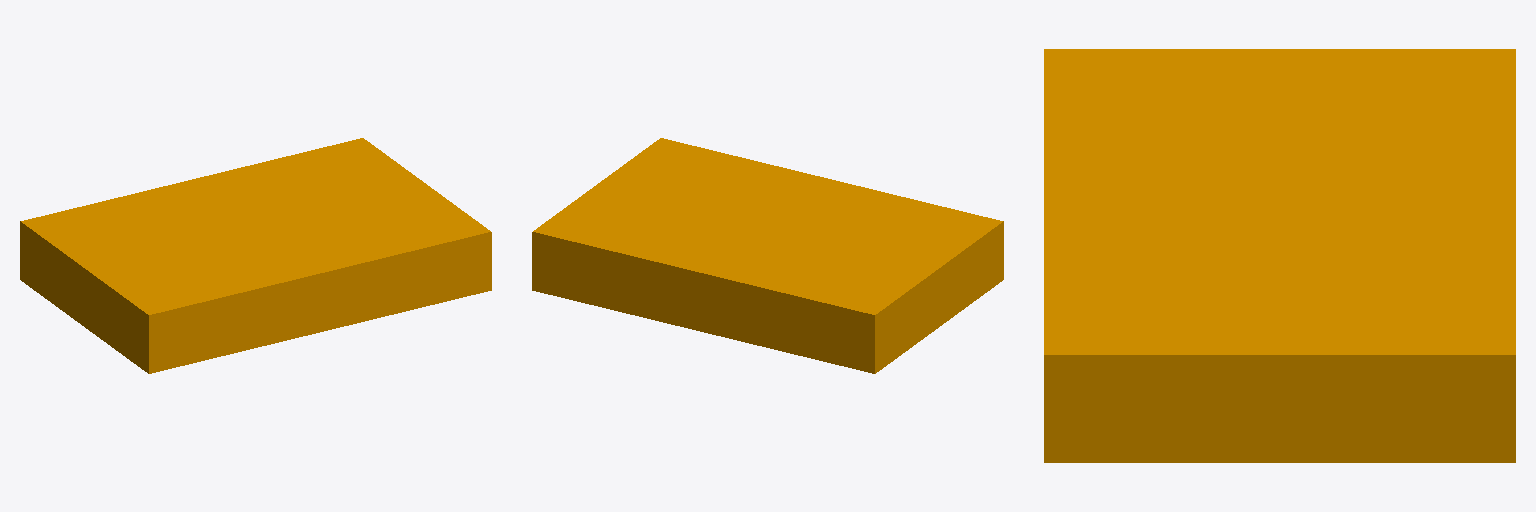
robot.urdf — book:
<?xml version="1.0"?>
<robot name="book">
  <link name="book">
    <visual>
      <origin xyz="0.0 0.0 0.0"/>
      <geometry>
        <mesh filename="book.obj" scale="1.0 1.0 1.0"/>
      </geometry>
    </visual>
    <collision>
      <origin xyz="0.0 0.0 0.0"/>
      <geometry>
        <mesh filename="book.obj" scale="1.0 1.0 1.0"/>
      </geometry>
    </collision>
    <inertial>
      <!-- Mass value from the *empty* spam can. Full spam can is 368g -->
      <mass value="0.2"/> 
      <inertia ixx="0.1" ixy="0.0" ixz="0.0" iyy="0.1" iyz="0.0" izz="0.1"/>
    </inertial>
  </link>
</robot>

--- Render facts (derived) ---
3 views of the same robot in one strip: view 1: azimuth 30°, elevation 25°; view 2: azimuth 150°, elevation 25°; view 3: azimuth 270°, elevation 25° (orthographic).
Robot: book — 1 links, 0 joints (none); root link book; default pose: all joints at 0.
Links seen in each view (by area): view 1: book; view 2: book; view 3: book.
Link boxes in pixels (bbox=[...]): book: bbox=[20, 138, 491, 373]; book: bbox=[532, 138, 1003, 373]; book: bbox=[1044, 49, 1515, 462].
Size in the robot's own frame: 0.262 by 0.17 by 0.043 metres.
1 mesh visuals loaded from 1 distinct referenced files (1 OBJ).